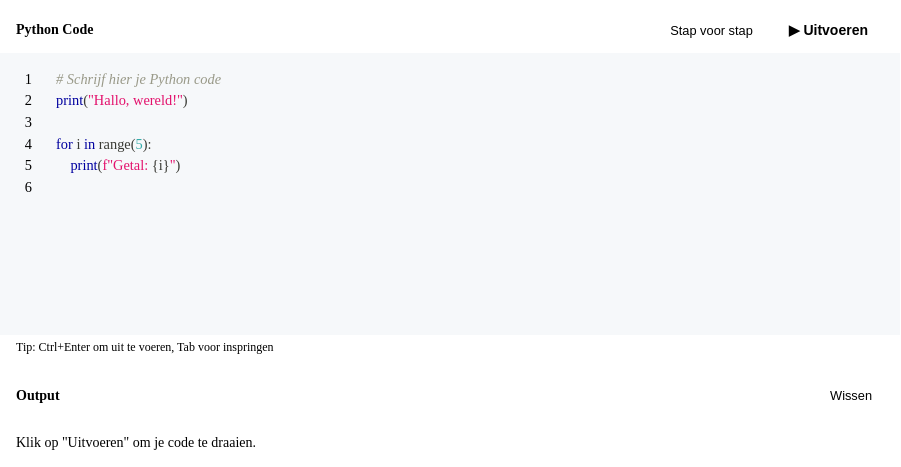
Test: PythonPlayground › begint met een voorbeeld, draait het en toont de uitvoer
Click the button "▶ Uitvoeren": (828, 30) [773,16,884,45]
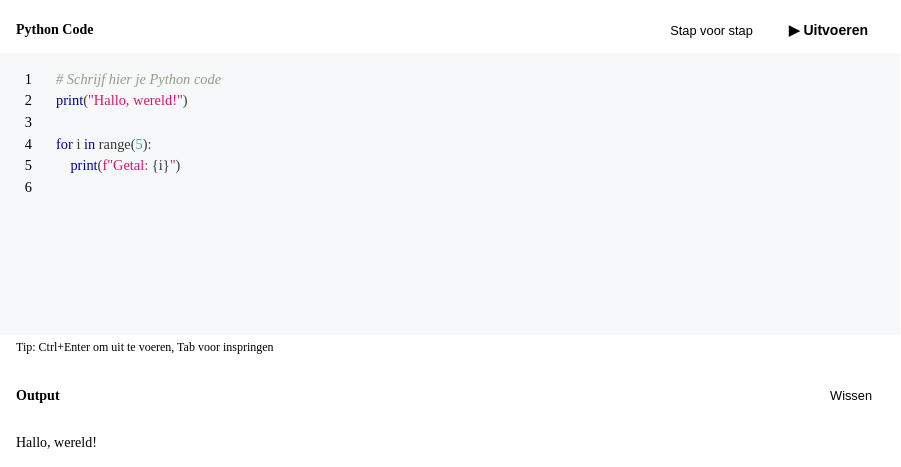
Expected: the text "Hallo, wereld!" is shown, [16,435,97,450]
